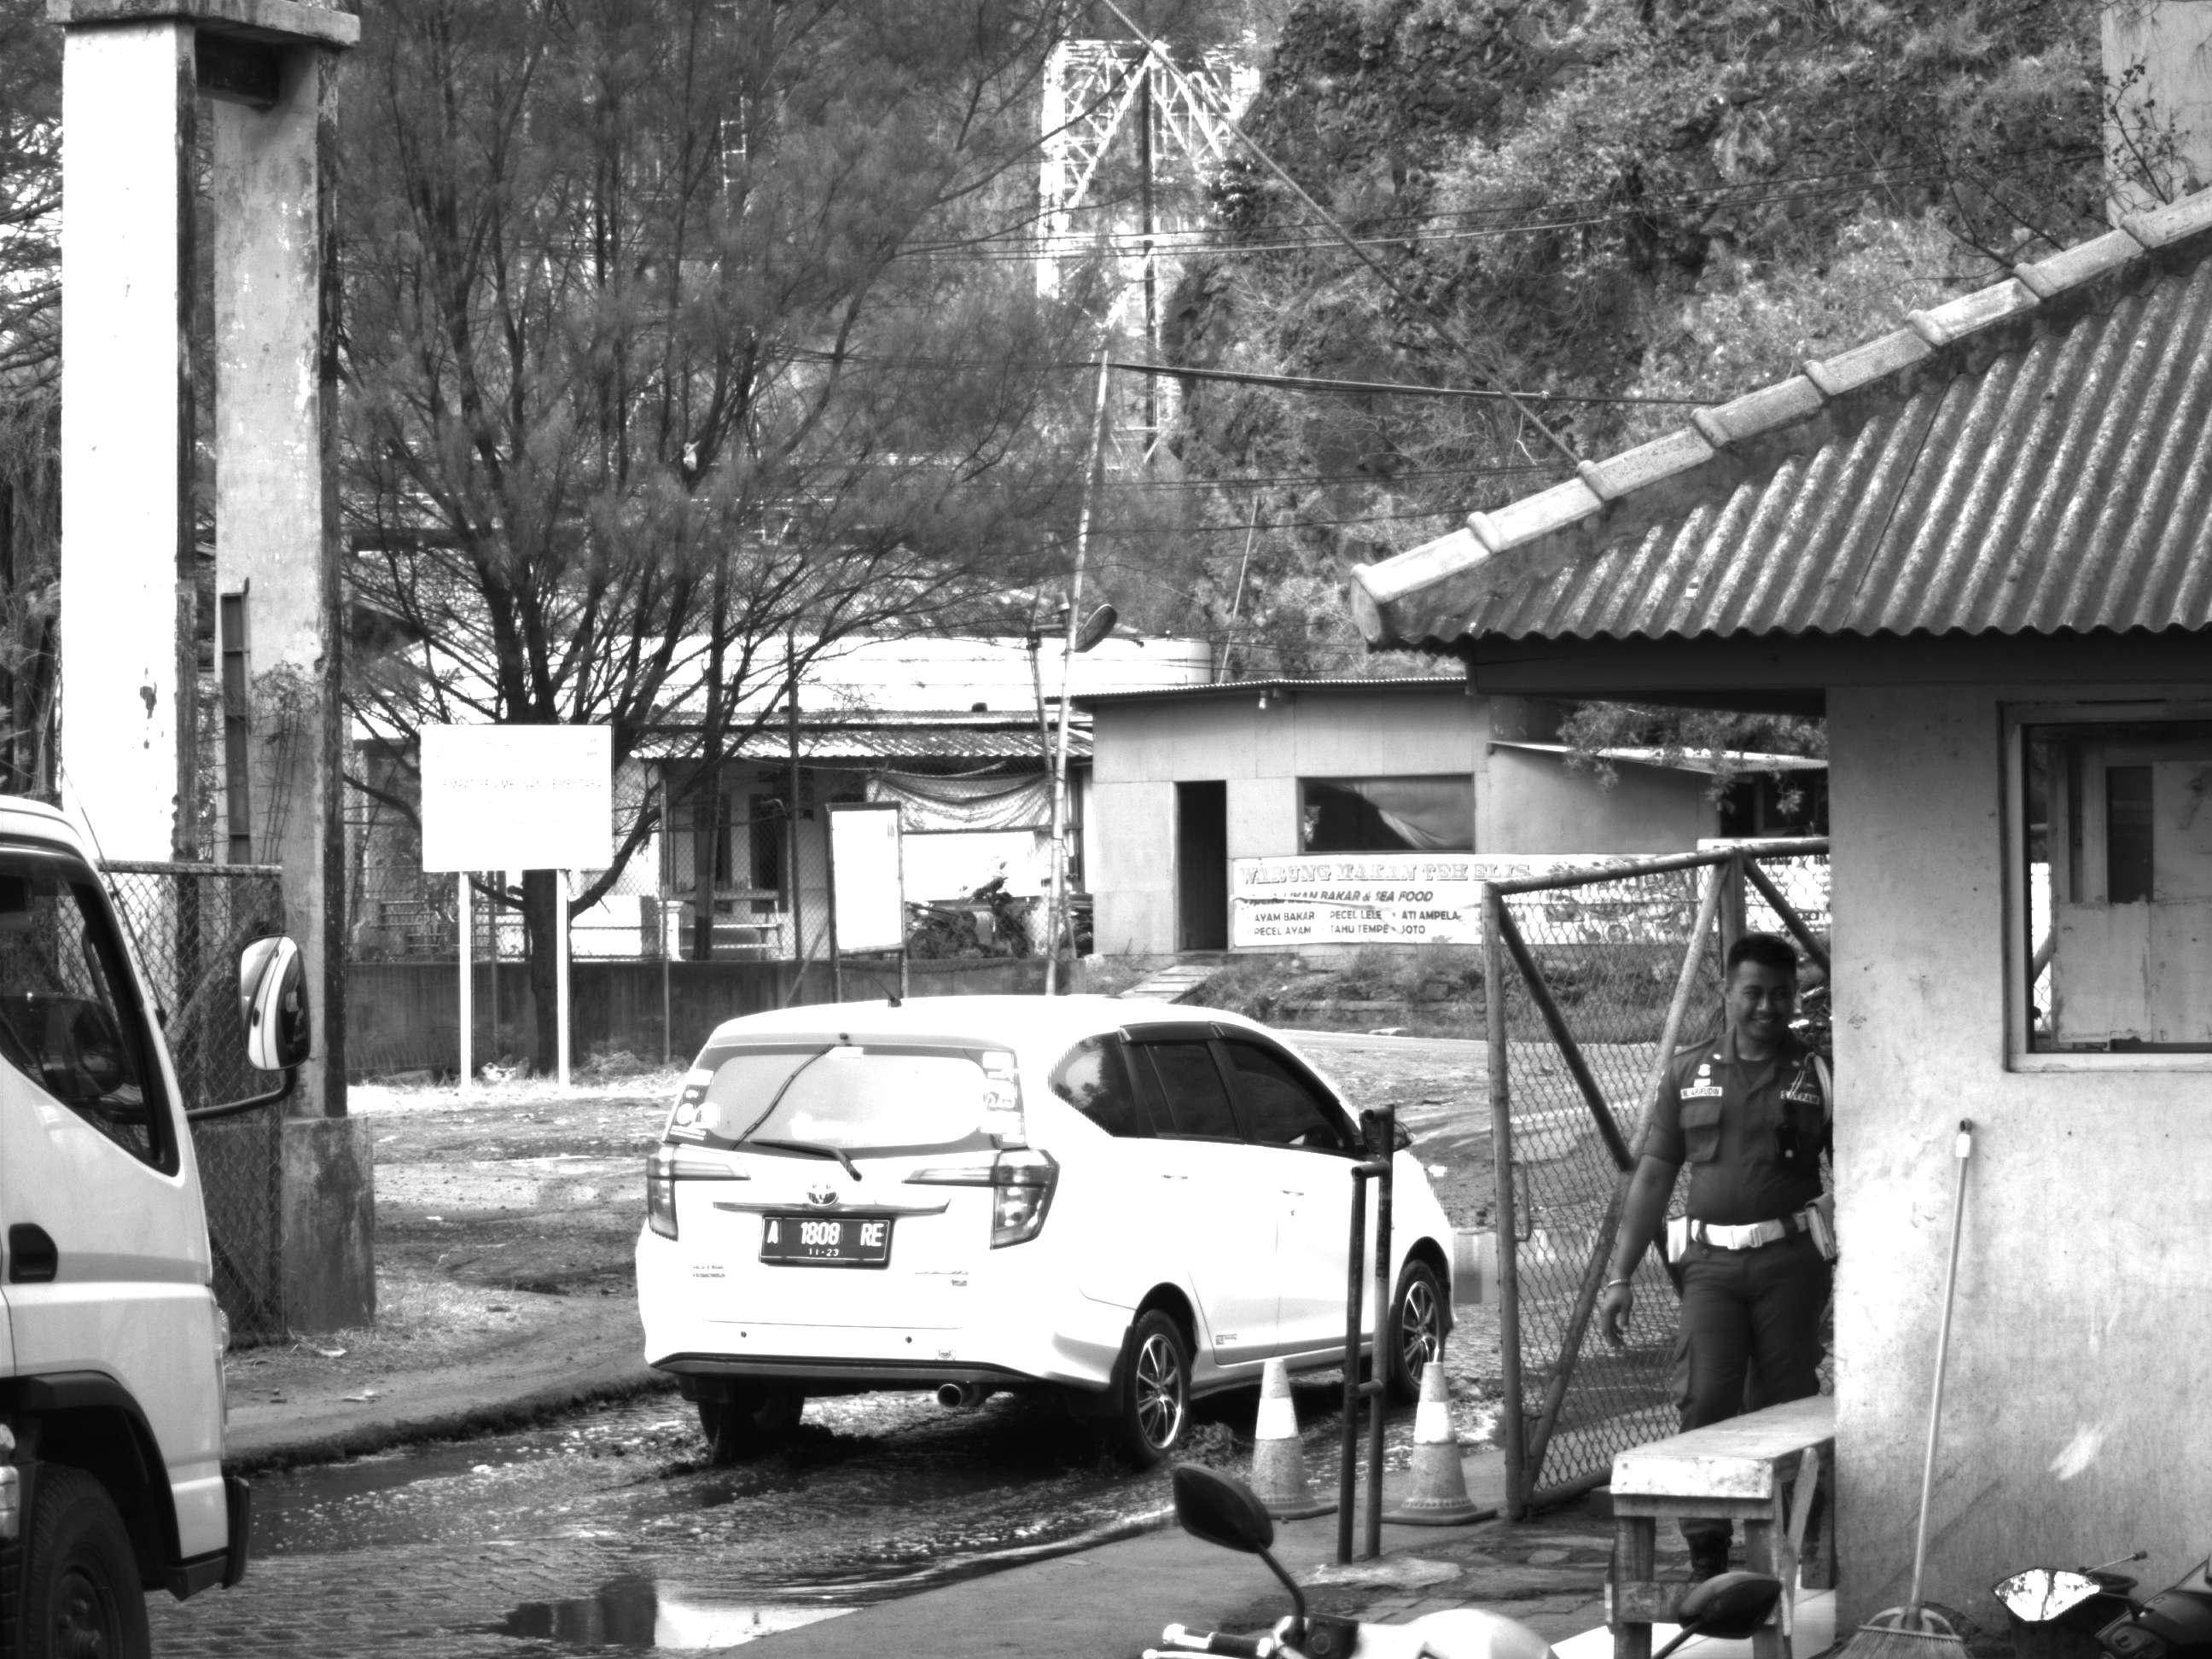day_small_rear: (630, 988, 1220, 1479)
plate: (758, 1211, 898, 1264)
